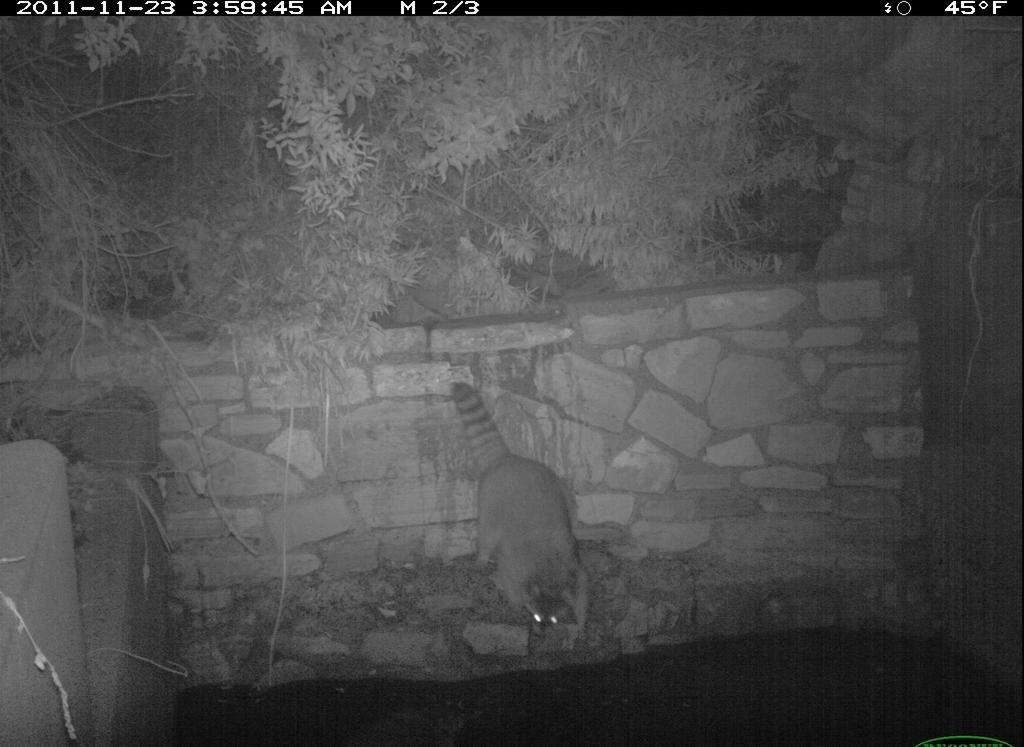raccoon: (440, 373, 602, 659)
